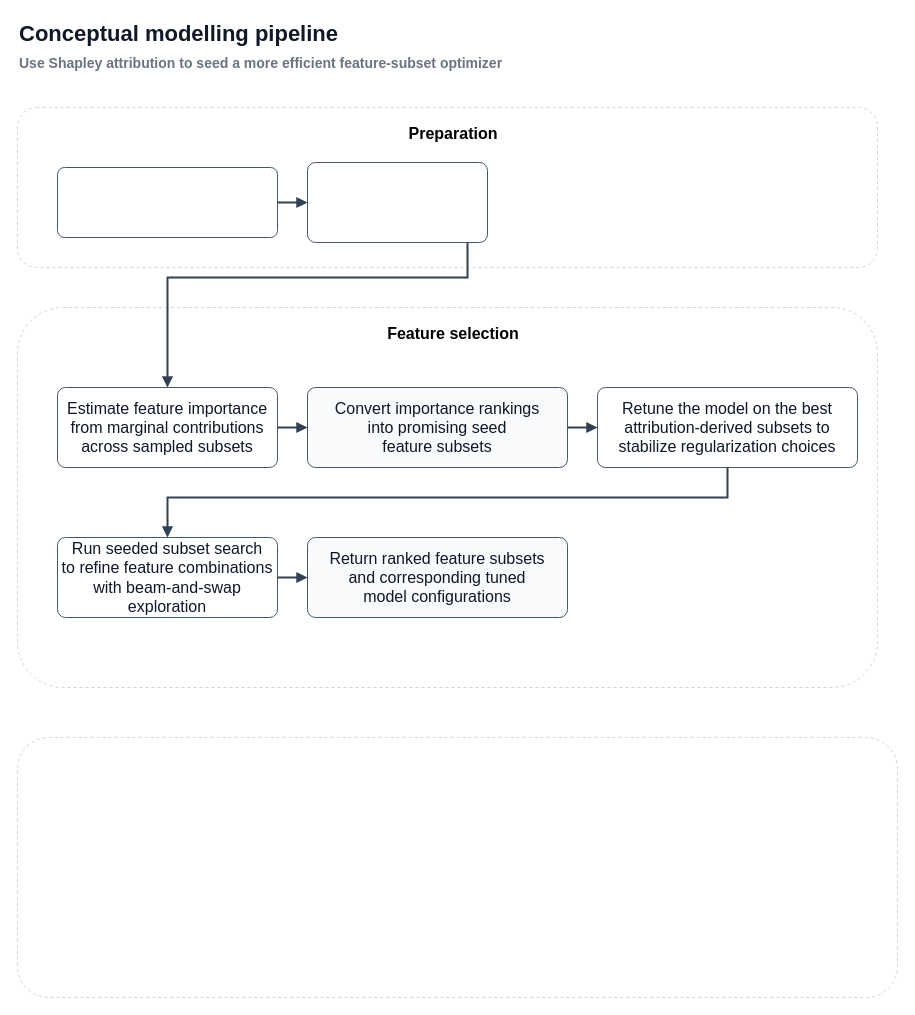
Image size: 915x1015. Some labels were removed from this diagram. Each missing label, with the centre of its shape:
Model Assessment: the point at 457,867
Train/test split by date plus coverage criteria: the point at 167,202
Tune regularization hyperparameters via cross validation: the point at 397,202
